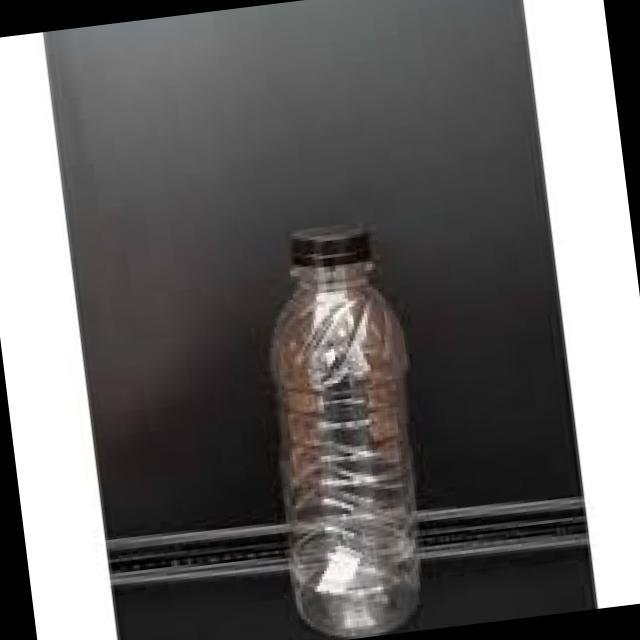good: (230, 194, 473, 640)
